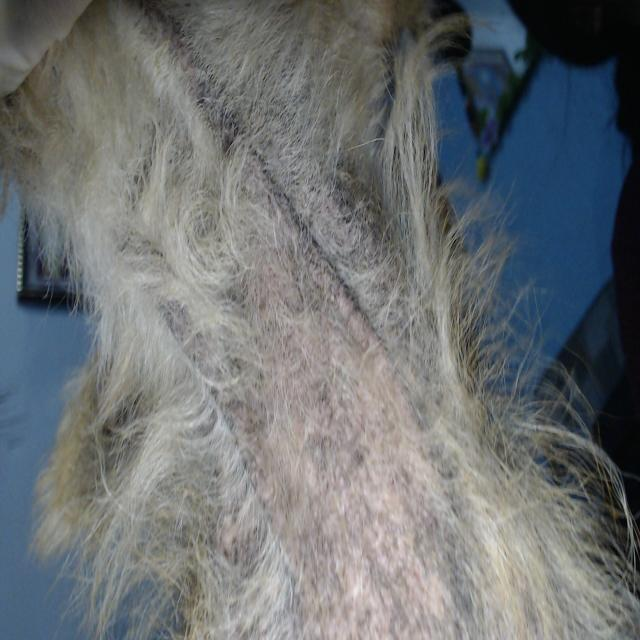demodicosis: (194, 192, 427, 579)
